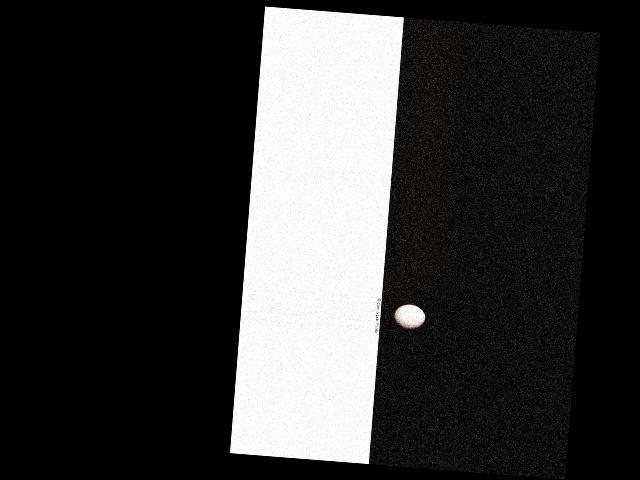egg: (392, 303, 426, 330)
